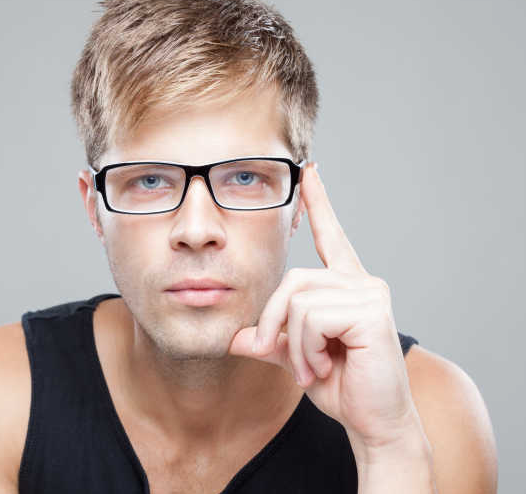glass: (81, 153, 304, 218)
mouth: (161, 263, 241, 313)
